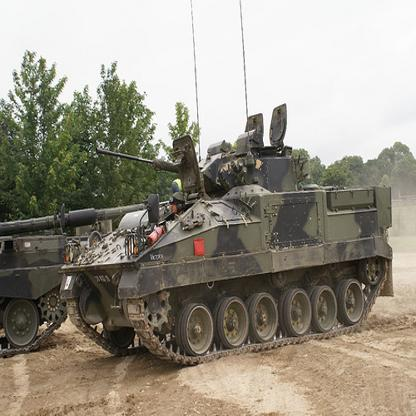Tank: (35, 108, 407, 362)
